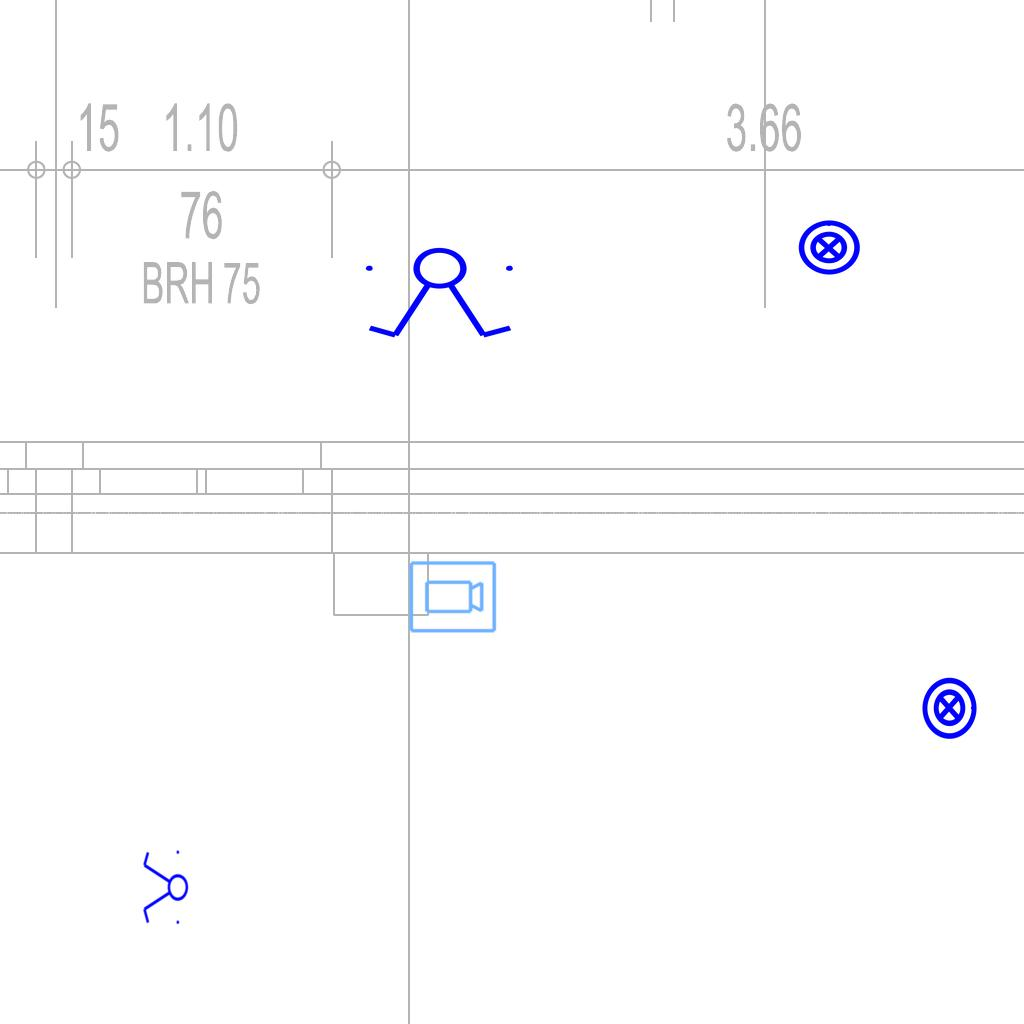KFO_Kamera_mit_Festobjektiv: (407, 559, 498, 636)
Serienschalter: (357, 246, 525, 342), (141, 846, 189, 930)
Taster_beleuchtet: (916, 675, 982, 741), (796, 215, 862, 281)
